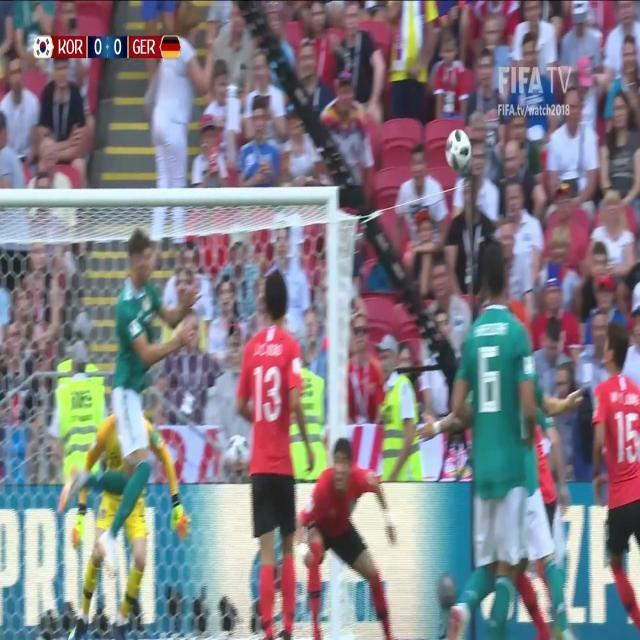ball: (443, 123, 475, 172)
goalkeeper: (71, 403, 189, 636)
player: (439, 252, 575, 626), (74, 210, 199, 569), (226, 264, 321, 635), (74, 387, 193, 630), (298, 432, 401, 634), (587, 308, 639, 627)
